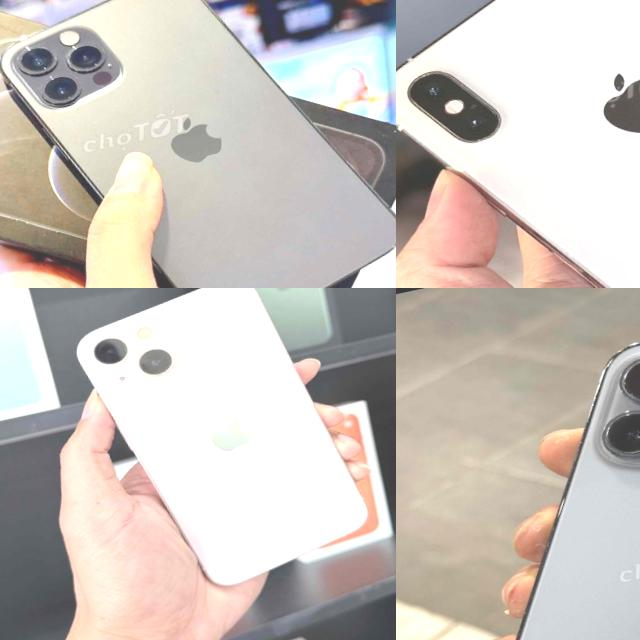gen_12_13: (62, 288, 373, 609), (396, 288, 640, 640)
gen_14: (0, 0, 396, 288)
gen_x_xs: (396, 0, 640, 288)
